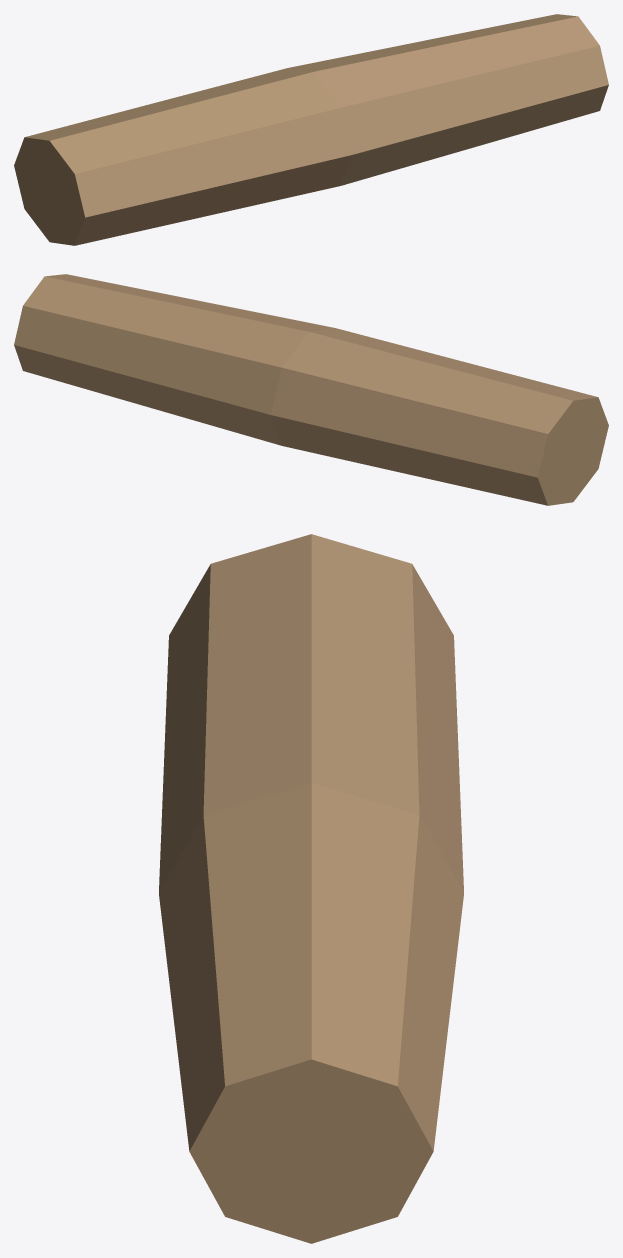
File: prop-grip-core-blank.fbx
3 renders of one model, top to bottom at view 1: azimuth 30°, elevation 25°; view 2: azimuth 150°, elevation 25°; view 3: azimuth 270°, elevation 25°, orthographic. The views are drawn at different scales.
Parts seen in each view (by area): view 1: prop-grip-core-blank; view 2: prop-grip-core-blank; view 3: prop-grip-core-blank.
Boxes of the visible parts, <box> form: prop-grip-core-blank: <box>14,14,608,245</box>; prop-grip-core-blank: <box>14,274,608,505</box>; prop-grip-core-blank: <box>159,534,463,1243</box>.
Bounding box in the file's own units: 12 × 2.4 × 3.
